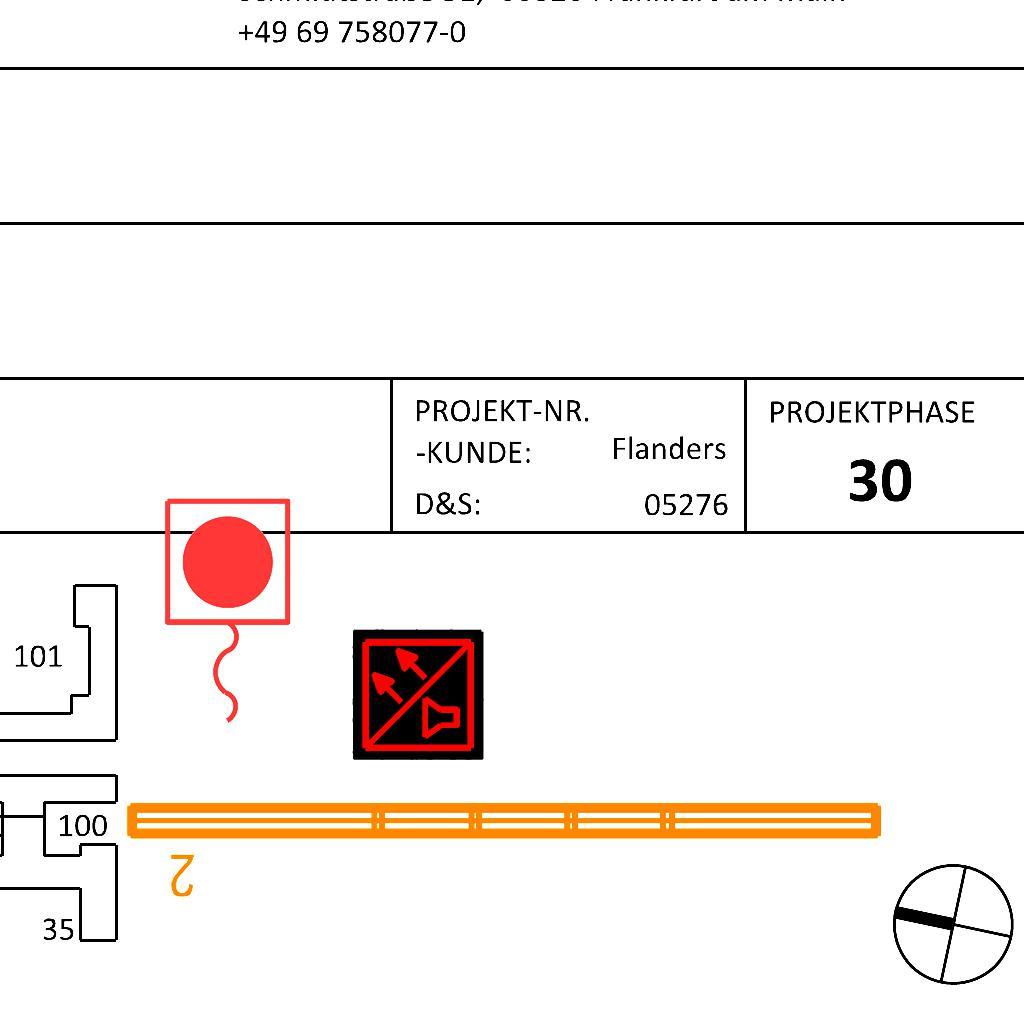Ambulanz_Pendelleuchte_LED: (118, 790, 892, 902)
OKW_Multisensormelder_(Kombination_optischer_Rauch-Kahlenmonoxid_Waerme-Melder): (352, 628, 484, 760)
Zugtaster: (154, 490, 298, 734)
